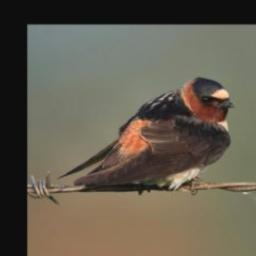Swallow: (56, 74, 236, 195)
